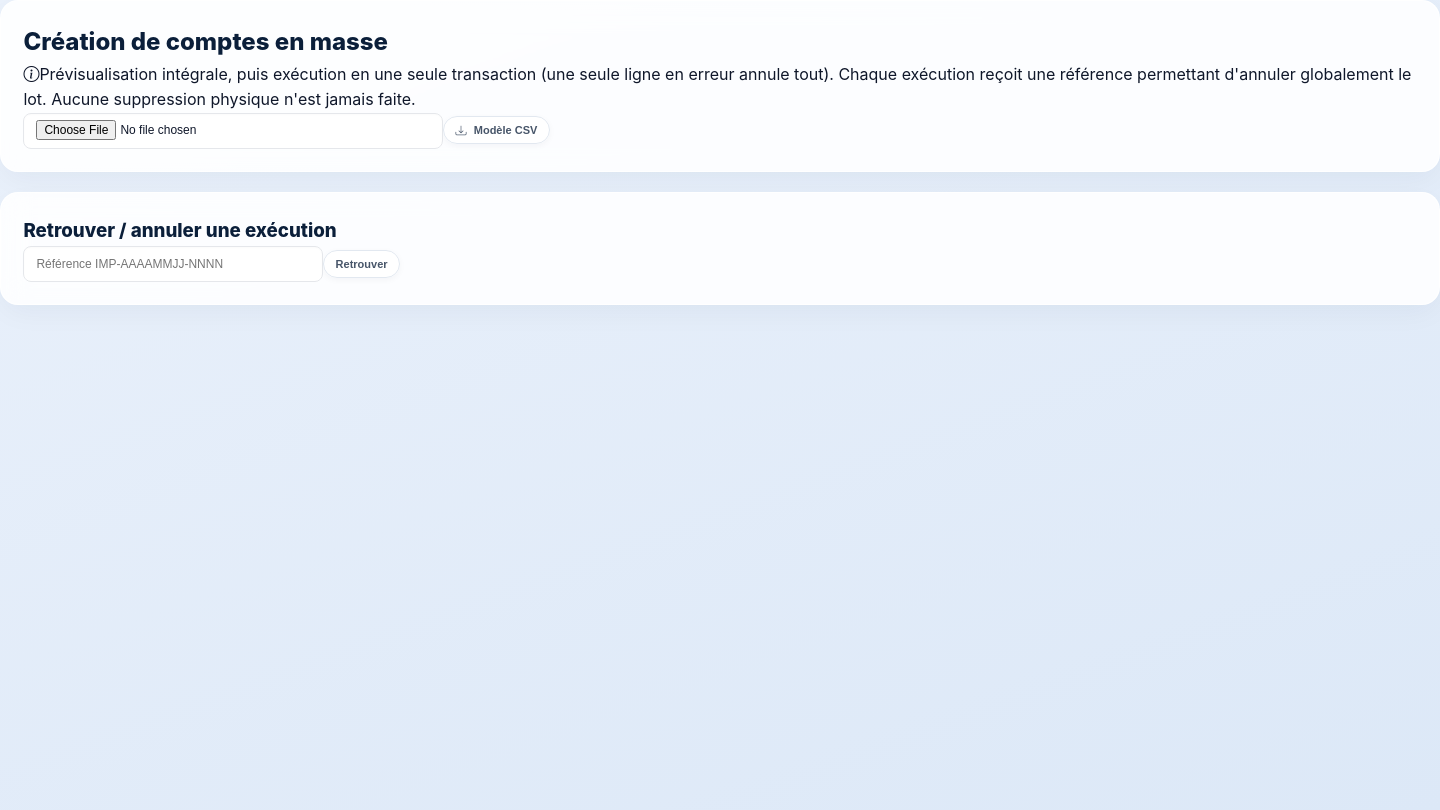
Test: OperationsMasse — exécution et annulation (U5) › retrouve une exécution par sa référence
The image size is (1440, 810).
Type "IMP-20260914-0003" into the field with test id "reference-recherche" at (173, 264), box x1=23 y1=246 x2=323 y2=282
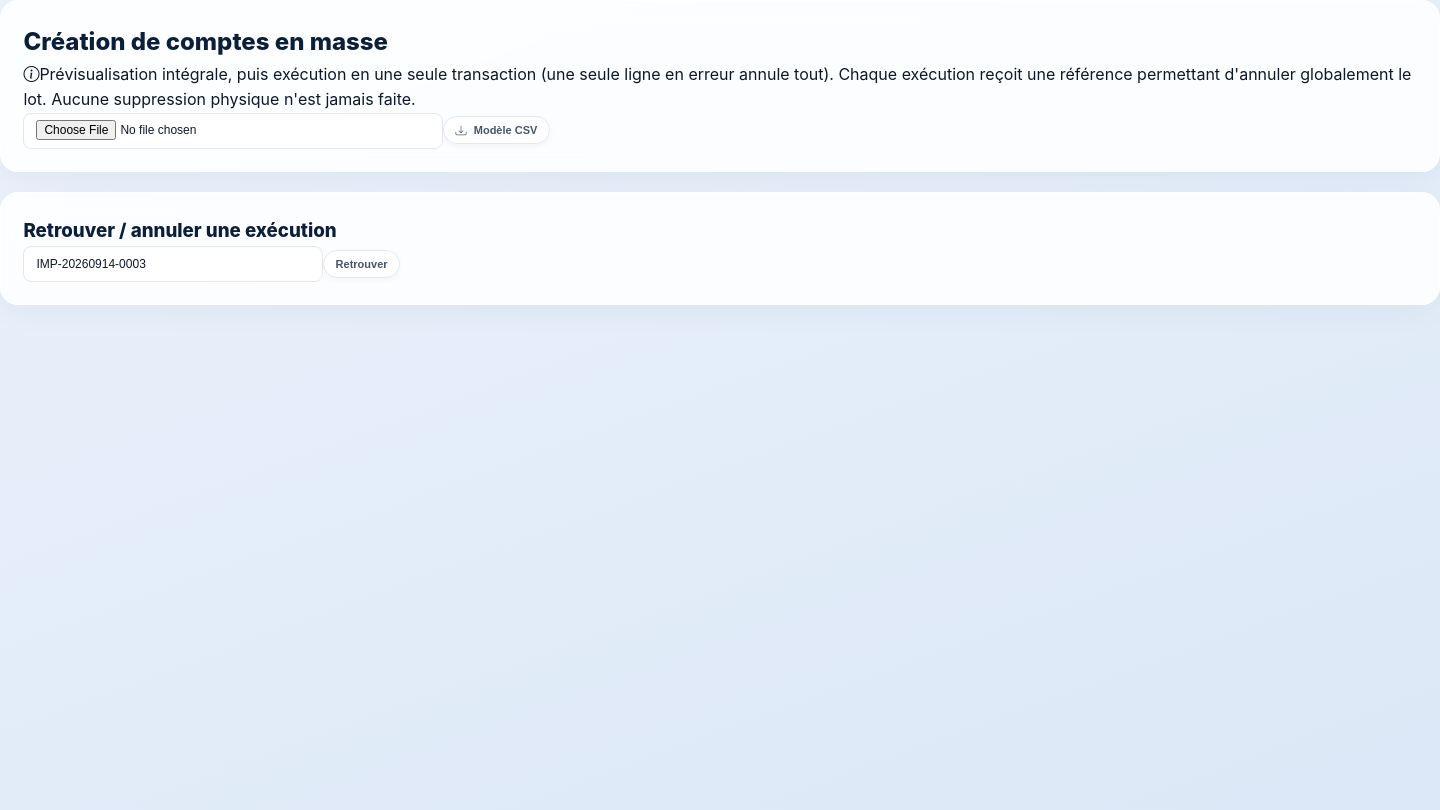
Click the button with test id "bouton-retrouver" at (362, 264), box x1=323 y1=250 x2=400 y2=278
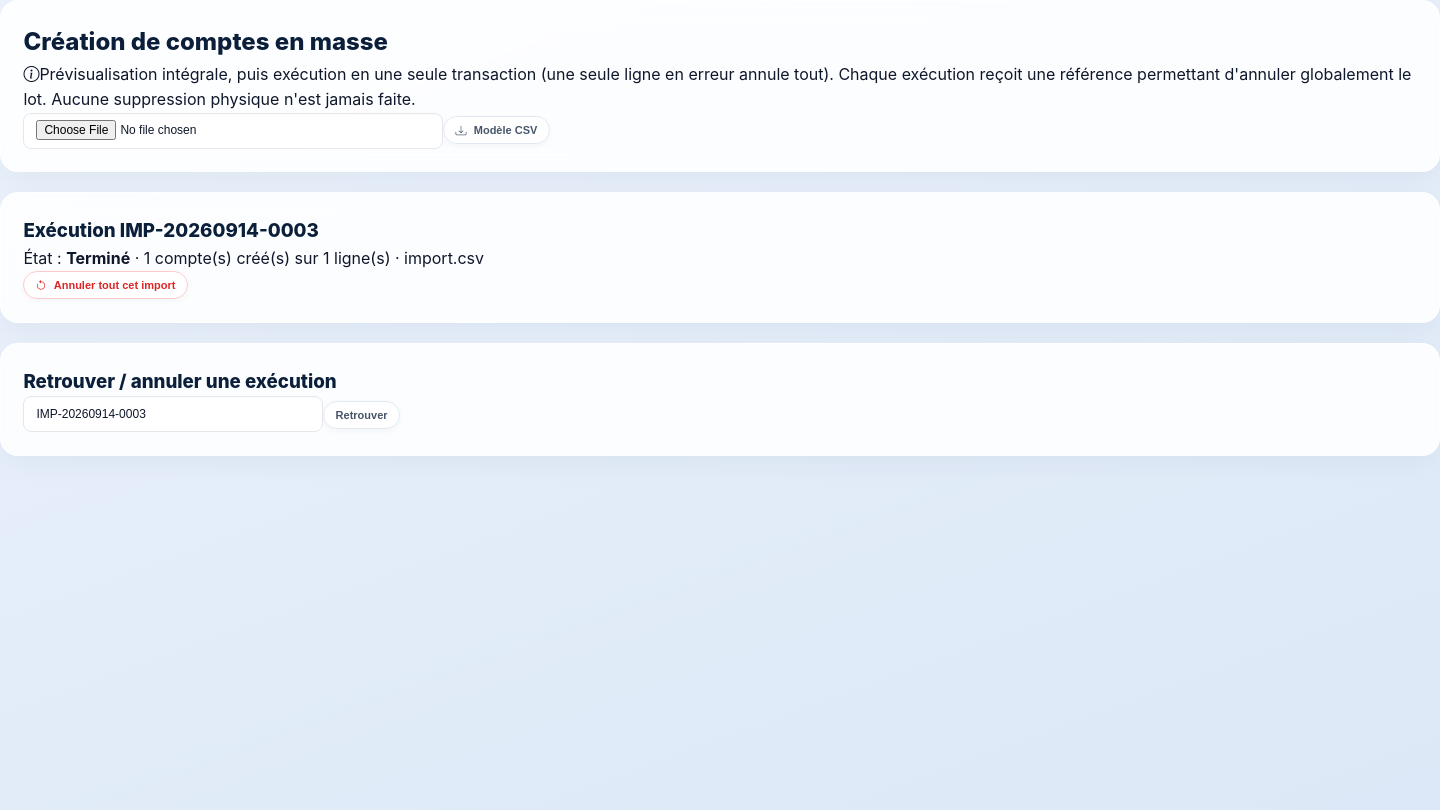
Check: the element with test id "rapport-execution" is shown, box x1=0 y1=192 x2=1439 y2=323
